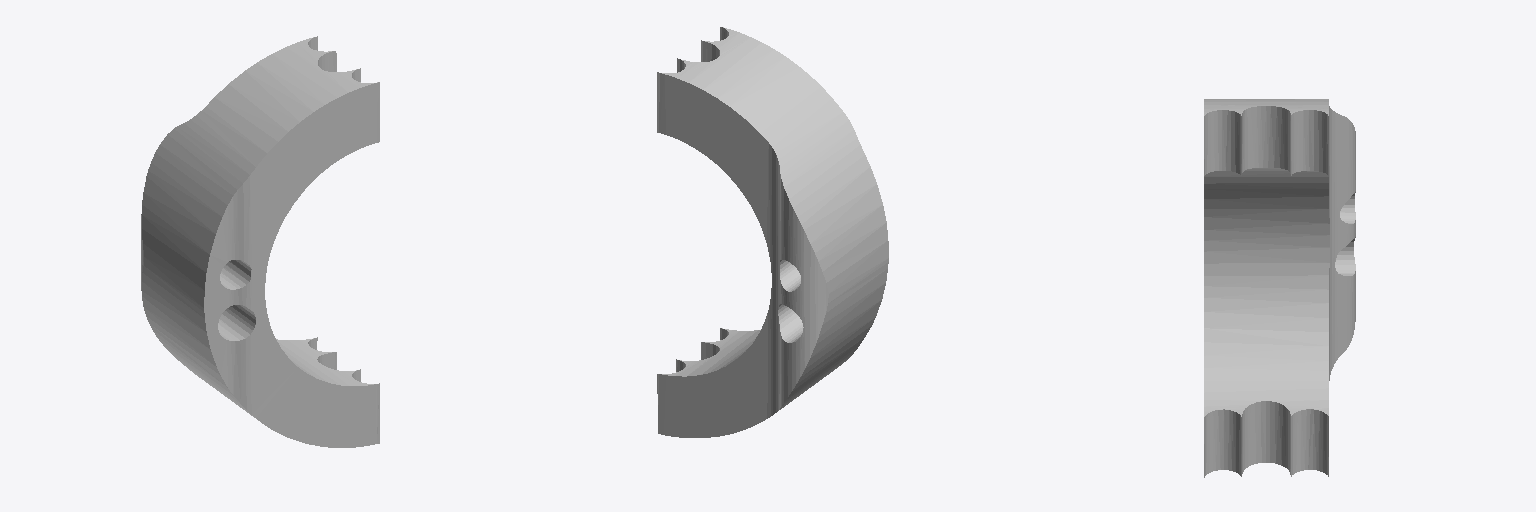
Rendered from seg3.OBJ.
3 views of the same model, side by side, from view 1: azimuth 30°, elevation 25°; view 2: azimuth 150°, elevation 25°; view 3: azimuth 270°, elevation 25° (orthographic).
Visible parts, largest first — view 1: /ambf/env/seg3_seg3; view 2: /ambf/env/seg3_seg3; view 3: /ambf/env/seg3_seg3.
Boxes of the visible parts, x1=… form: /ambf/env/seg3_seg3: x1=141, y1=36, x2=379, y2=447; /ambf/env/seg3_seg3: x1=657, y1=27, x2=888, y2=437; /ambf/env/seg3_seg3: x1=1204, y1=99, x2=1355, y2=477.
Size of the model in its own units: 0.003 by 0.006 by 0.0023.